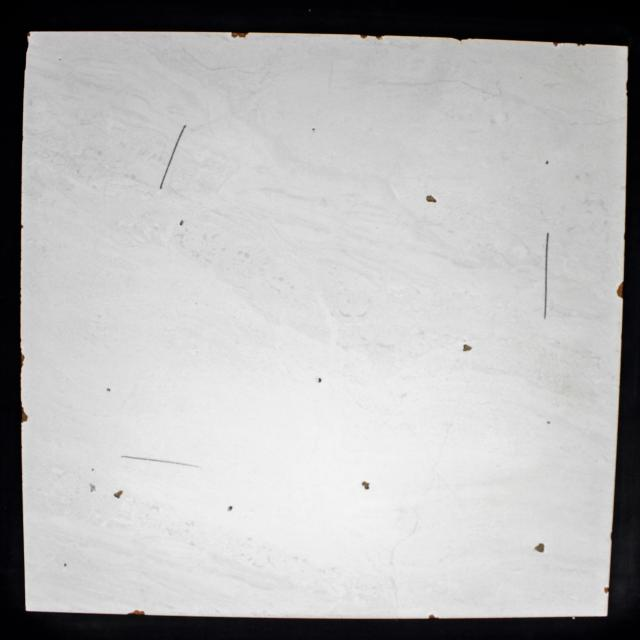edge-chipping: (615, 280, 624, 300), (21, 404, 29, 424), (230, 32, 250, 39), (20, 349, 26, 371), (25, 31, 31, 53), (128, 609, 145, 615), (452, 38, 470, 42), (359, 34, 369, 40), (375, 35, 385, 41), (552, 42, 562, 48), (603, 586, 610, 594), (428, 614, 438, 619), (576, 43, 586, 47)
hole: (534, 542, 545, 554), (426, 194, 437, 203), (462, 343, 473, 352), (113, 490, 124, 499), (361, 481, 370, 490), (179, 220, 185, 227), (227, 505, 233, 512), (544, 160, 550, 165), (318, 377, 322, 384), (64, 562, 68, 568), (312, 127, 316, 131)
line: (120, 455, 200, 469), (544, 232, 550, 320), (172, 124, 187, 158), (158, 160, 172, 190)
